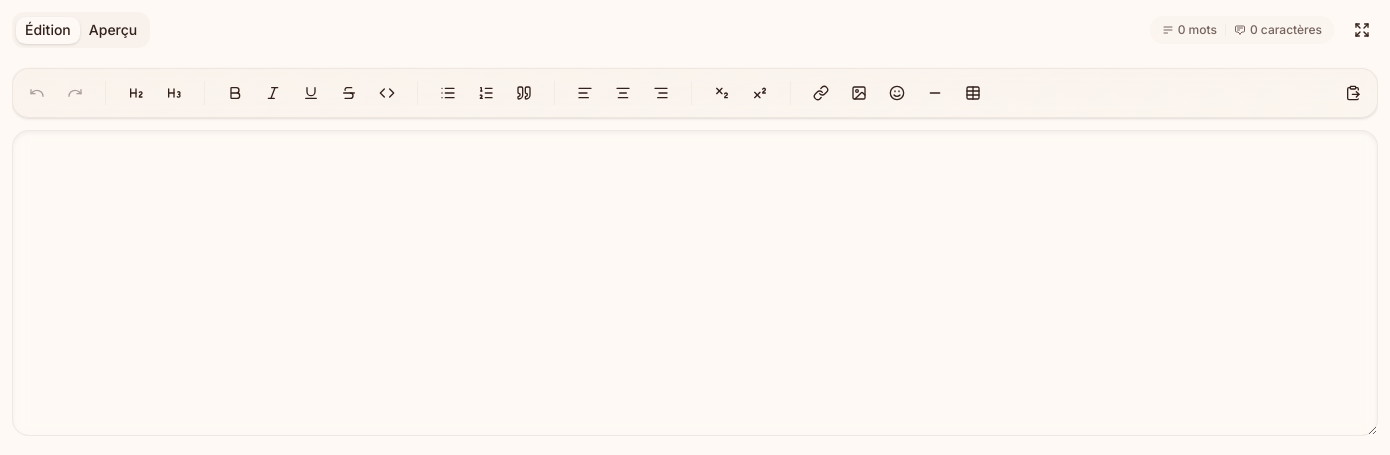
Test: ArticleContentEditor › prefixes the current line with a bullet
Type "element" into the text box at (695, 283), box 12,130 -> 1378,436
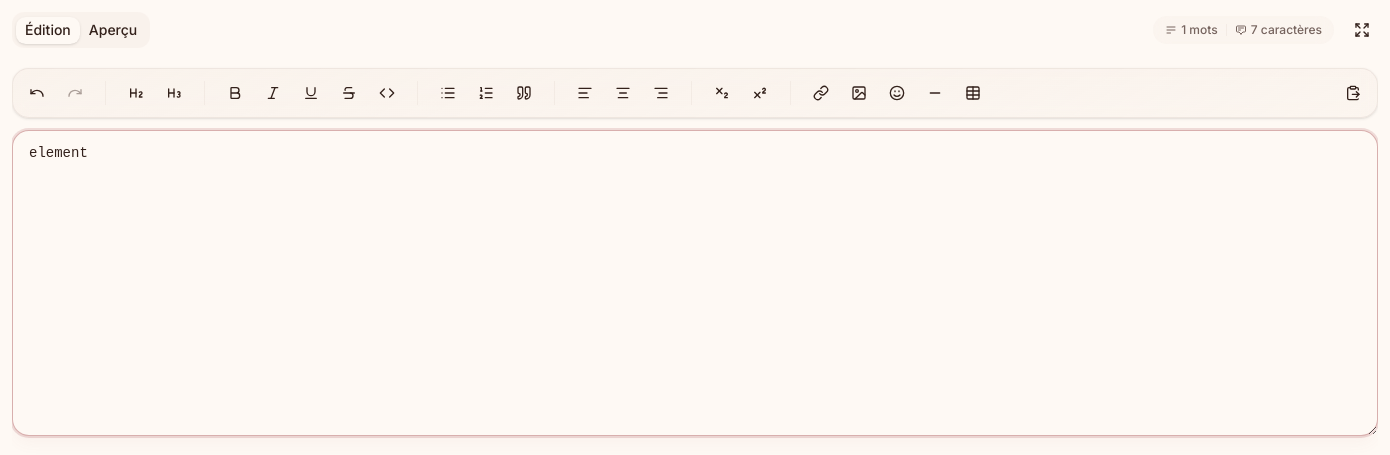
Click the button titled "Liste à puces" at (448, 93), box 432,77 -> 464,109
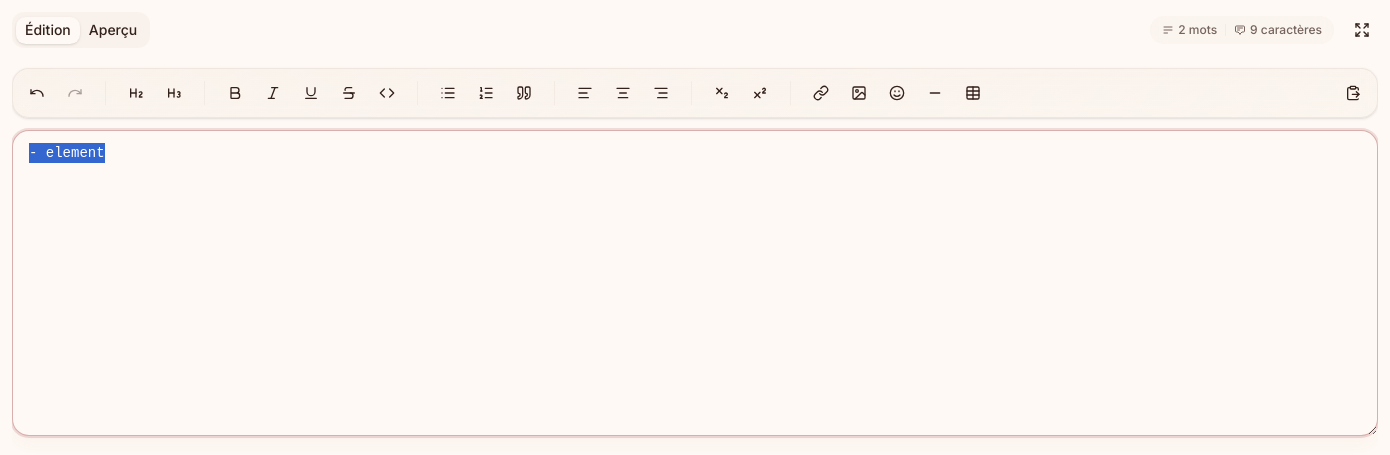
Expected: the text box holds "- element"
